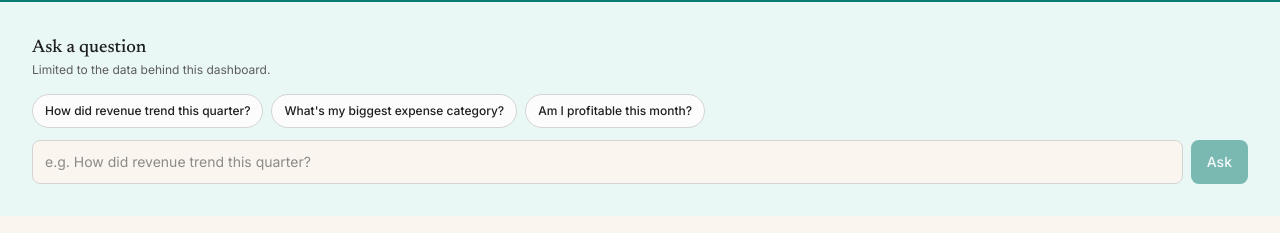
QaAskBox › suggested question chips › populates the input and asks immediately when a chip is clicked
Click the button "How did revenue trend this quarter?" at (148, 111), box [32,94,264,128]
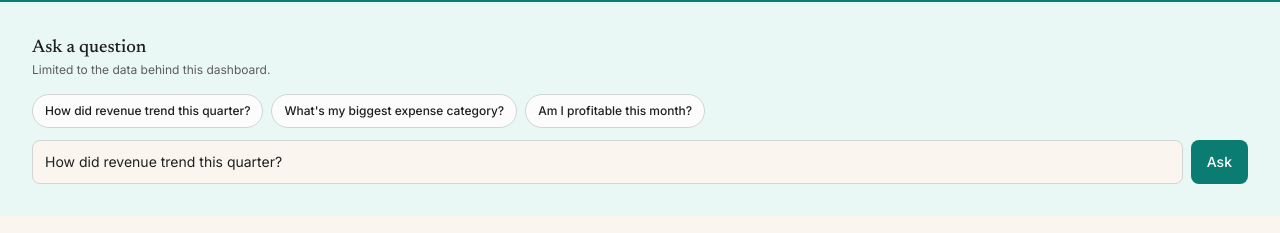
Result: the field with placeholder "e.g. How did revenue trend this quarter?" holds "How did revenue trend this quarter?" at [32,140,1183,184]
